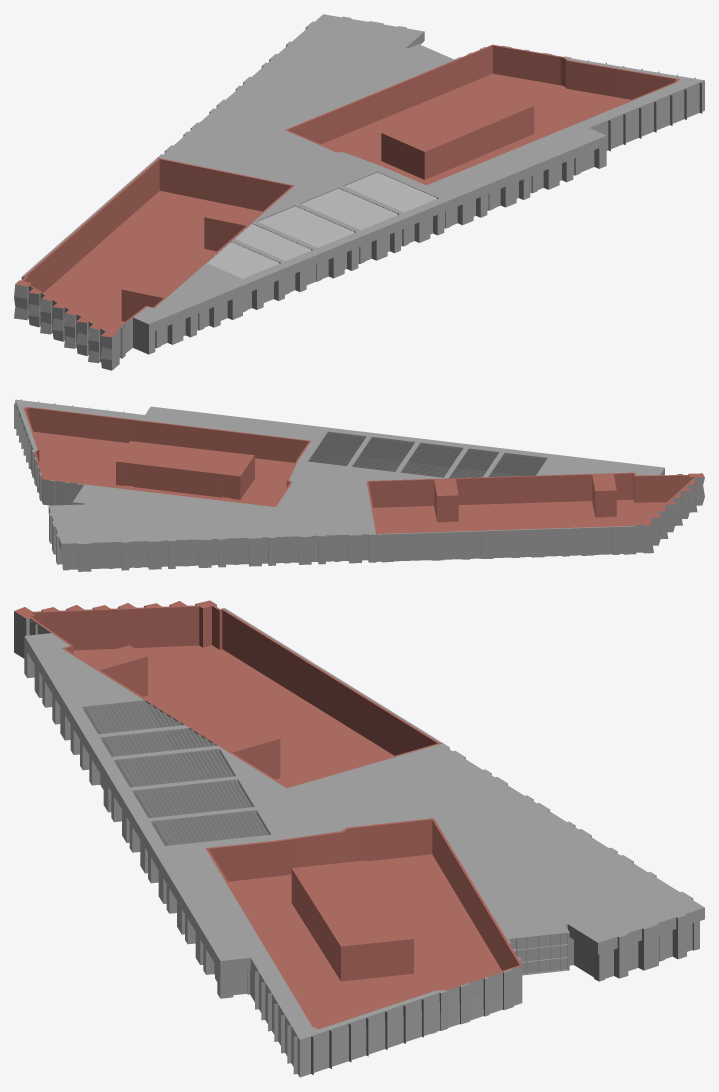
Rendered from JLL_Ruya_Region3DModels_Riyadh_Derived_HeroBuildings_Building 305_Floors_KSA_04_04105_B29_Floor_T0_3.fbx.
3 renders of one model, top to bottom at view 1: azimuth 30°, elevation 25°; view 2: azimuth 150°, elevation 25°; view 3: azimuth 270°, elevation 25°, orthographic. The views are drawn at different scales.
Parts seen in each view (by area): view 1: KSA_04_04105_B29_Floor_T0_3; view 2: KSA_04_04105_B29_Floor_T0_3; view 3: KSA_04_04105_B29_Floor_T0_3.
Boxes of the visible parts, x1,y1,x2,y2 form: KSA_04_04105_B29_Floor_T0_3: [14, 14, 704, 370]; KSA_04_04105_B29_Floor_T0_3: [14, 399, 704, 571]; KSA_04_04105_B29_Floor_T0_3: [14, 600, 704, 1077].
Size of what is drawn, in the model's own units: 12038 by 529 by 7974.
